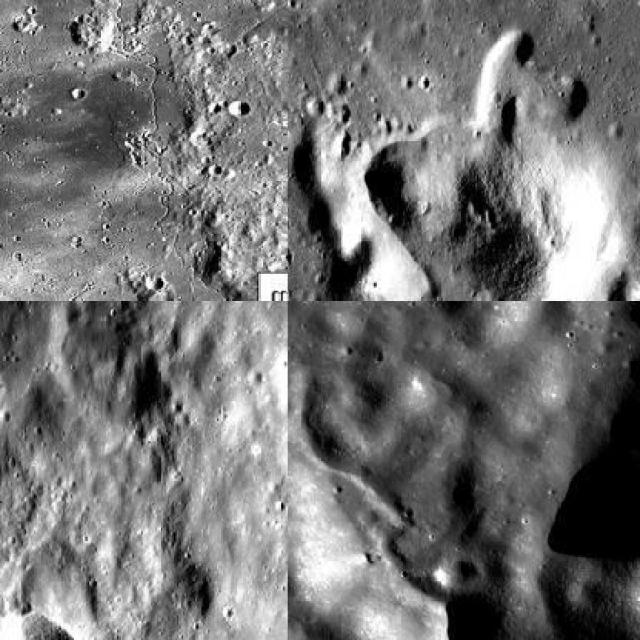rille: (43, 0, 241, 298), (288, 357, 474, 638), (396, 231, 450, 298)
